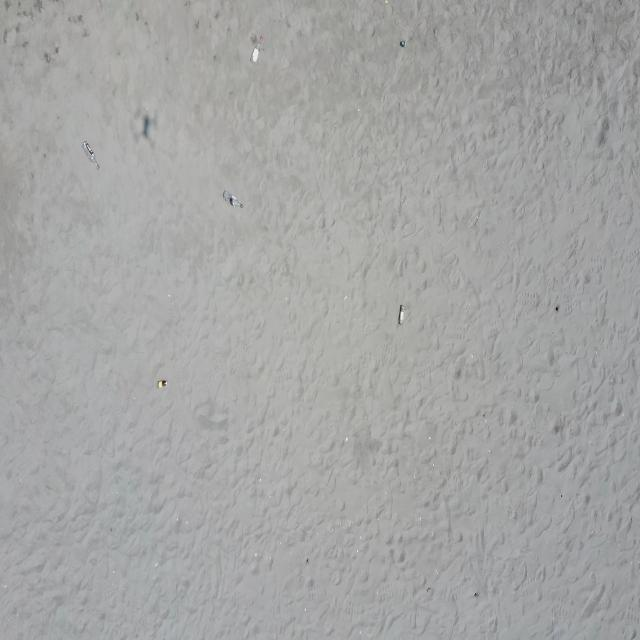glass: (82, 140, 99, 170), (223, 190, 244, 208), (250, 36, 263, 63), (398, 305, 405, 325), (156, 380, 168, 388), (399, 40, 406, 47)
